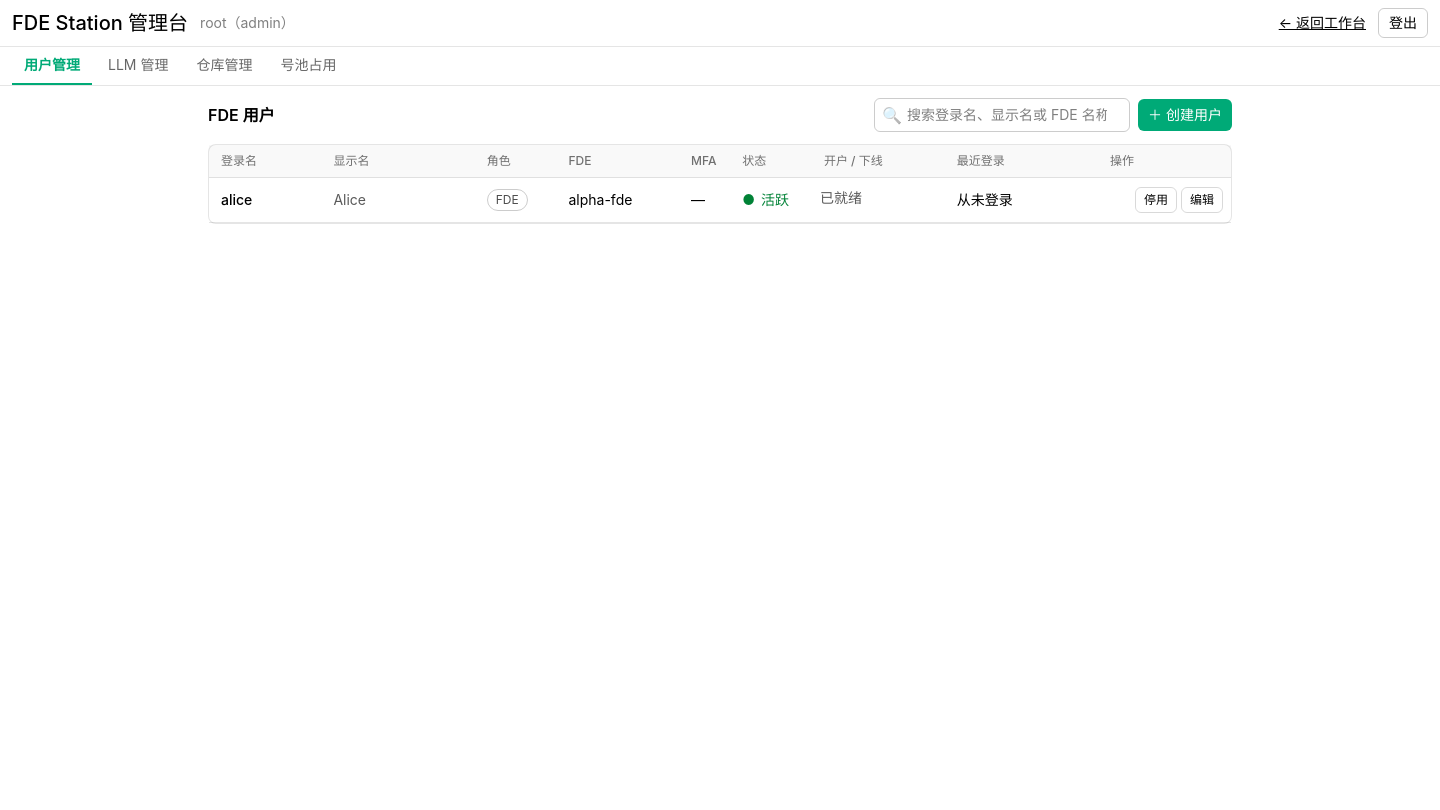
Test case: issue #350 判据④：与改块流程接上（引用式 + 只读提示，红线：绝不自动改值/自动提交） › 判据④：打开改块面板**不会**隐式发占用总览请求（快照只读是契约面，不是注释）
Click the button with test id "edit-user": (1202, 200) top-left (1181, 187), bottom-right (1223, 213)
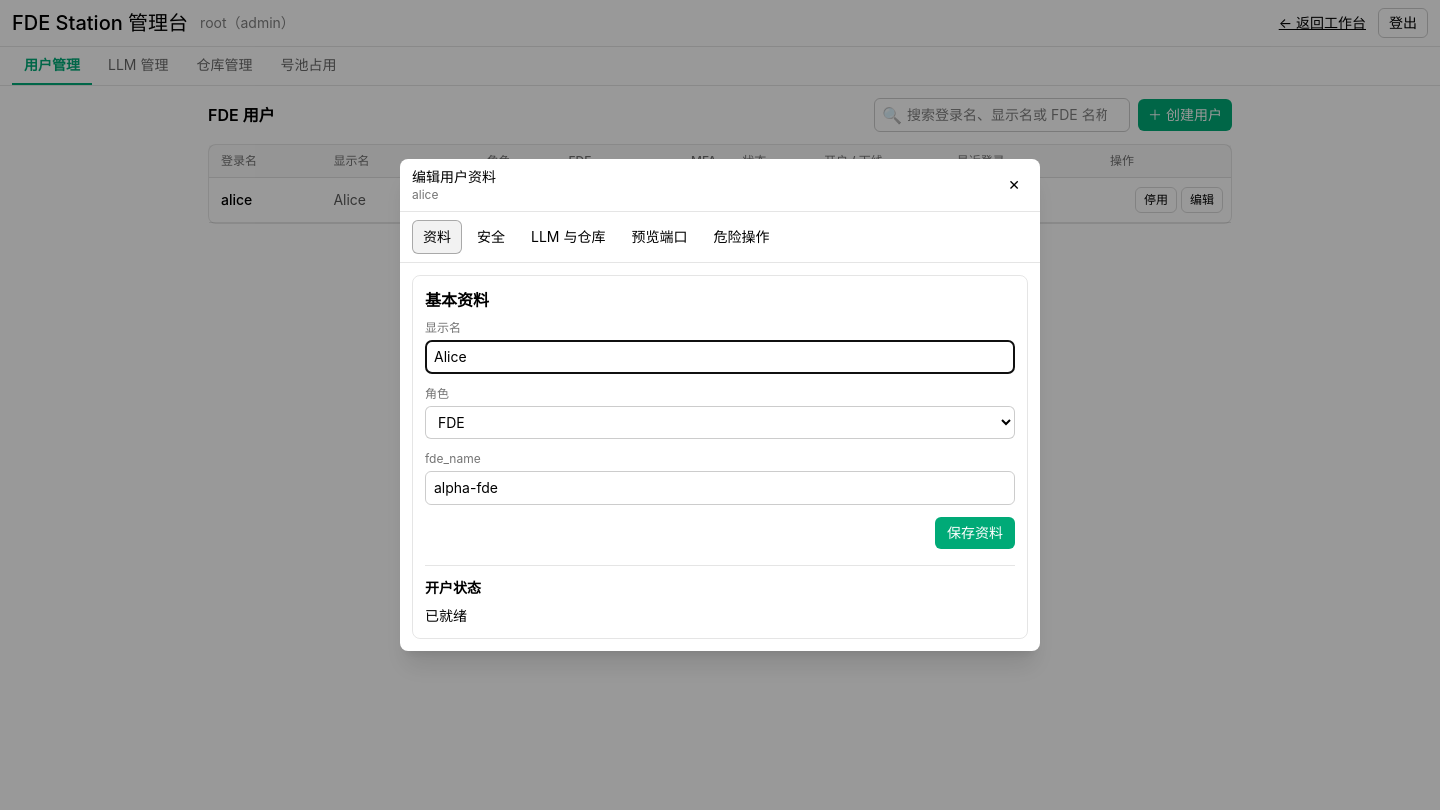
Click the tab with test id "edit-tab-ports": (659, 237) top-left (620, 220), bottom-right (698, 254)
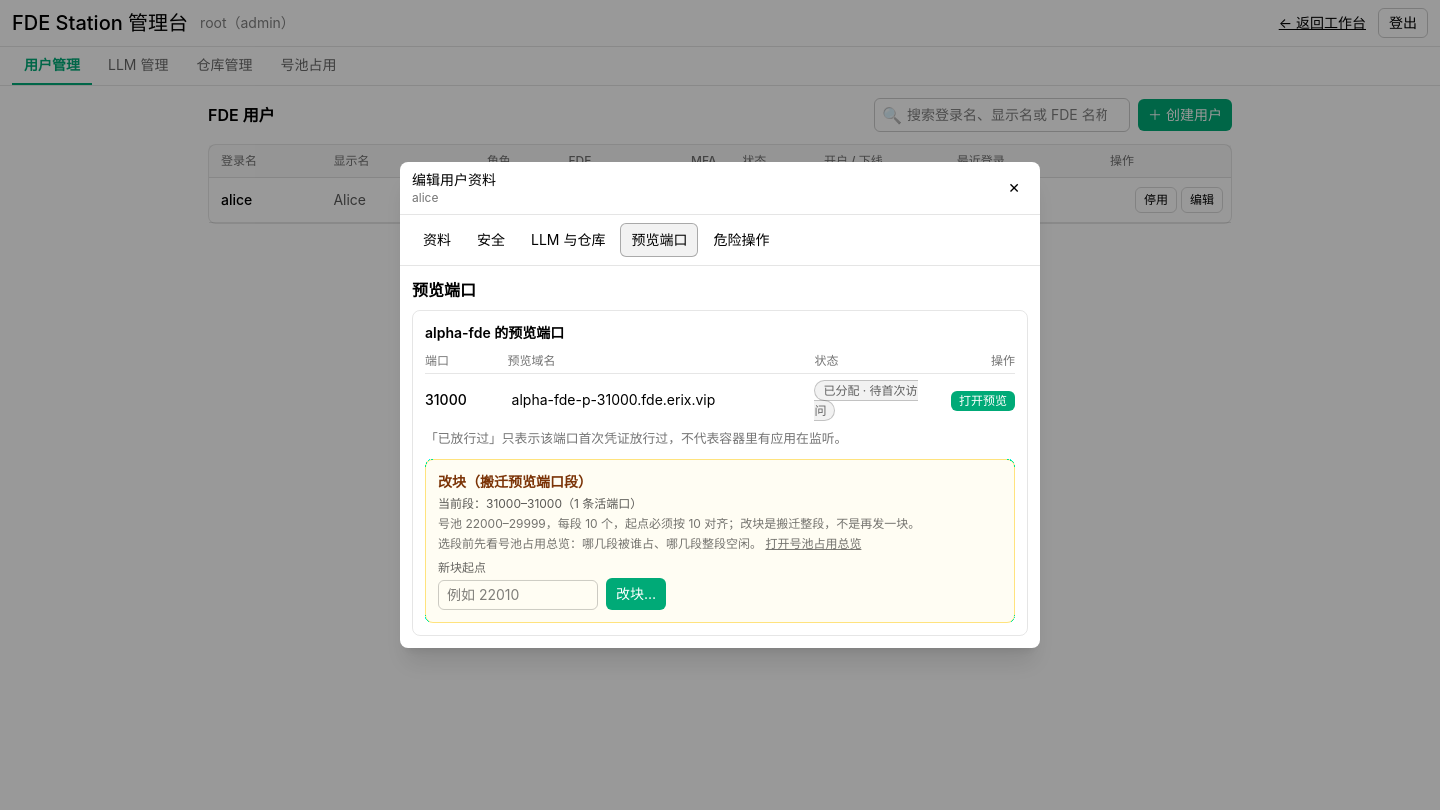
expect the element with test id "fde-ports-pane" is shown: met, box top-left (425, 323), bottom-right (1015, 623)
